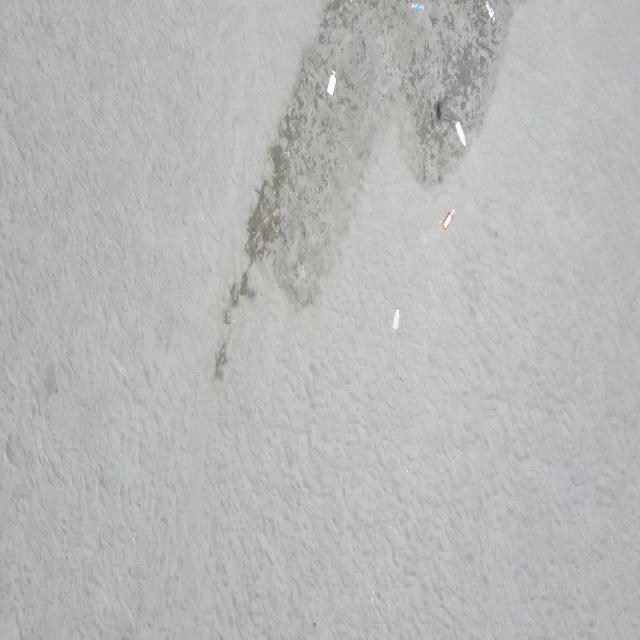plastic-bottle: (454, 119, 468, 149), (441, 208, 456, 230), (483, 0, 496, 23), (391, 308, 401, 332), (328, 71, 337, 96), (411, 1, 424, 12)
